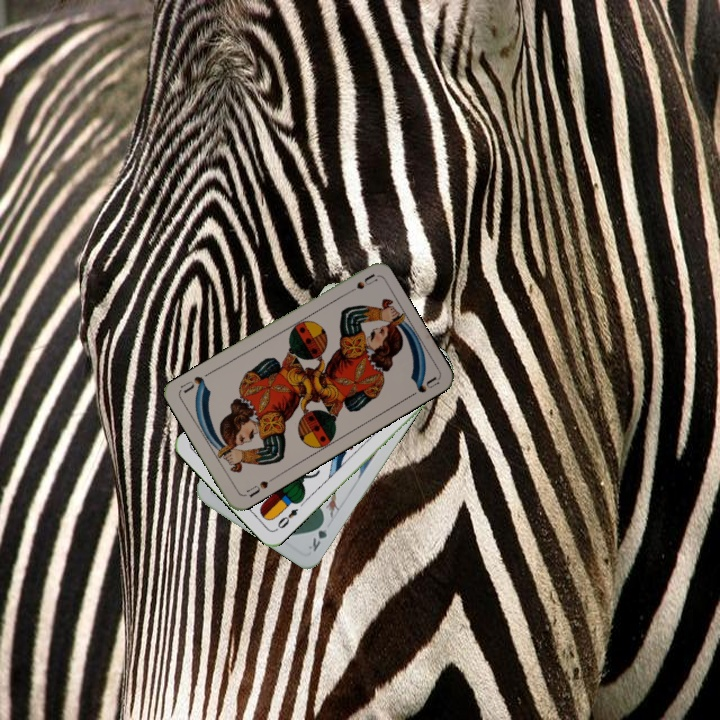EO: (273, 504, 301, 531)
GK: (304, 516, 330, 554)
SU: (340, 270, 379, 298), (240, 473, 278, 500)
